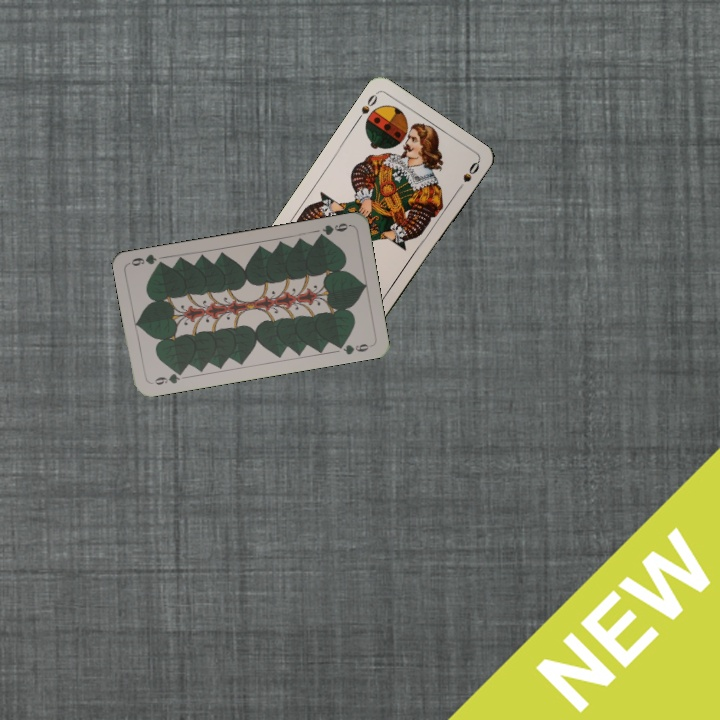G9: (314, 219, 353, 241), (147, 367, 186, 388)
SO: (352, 89, 380, 124)
